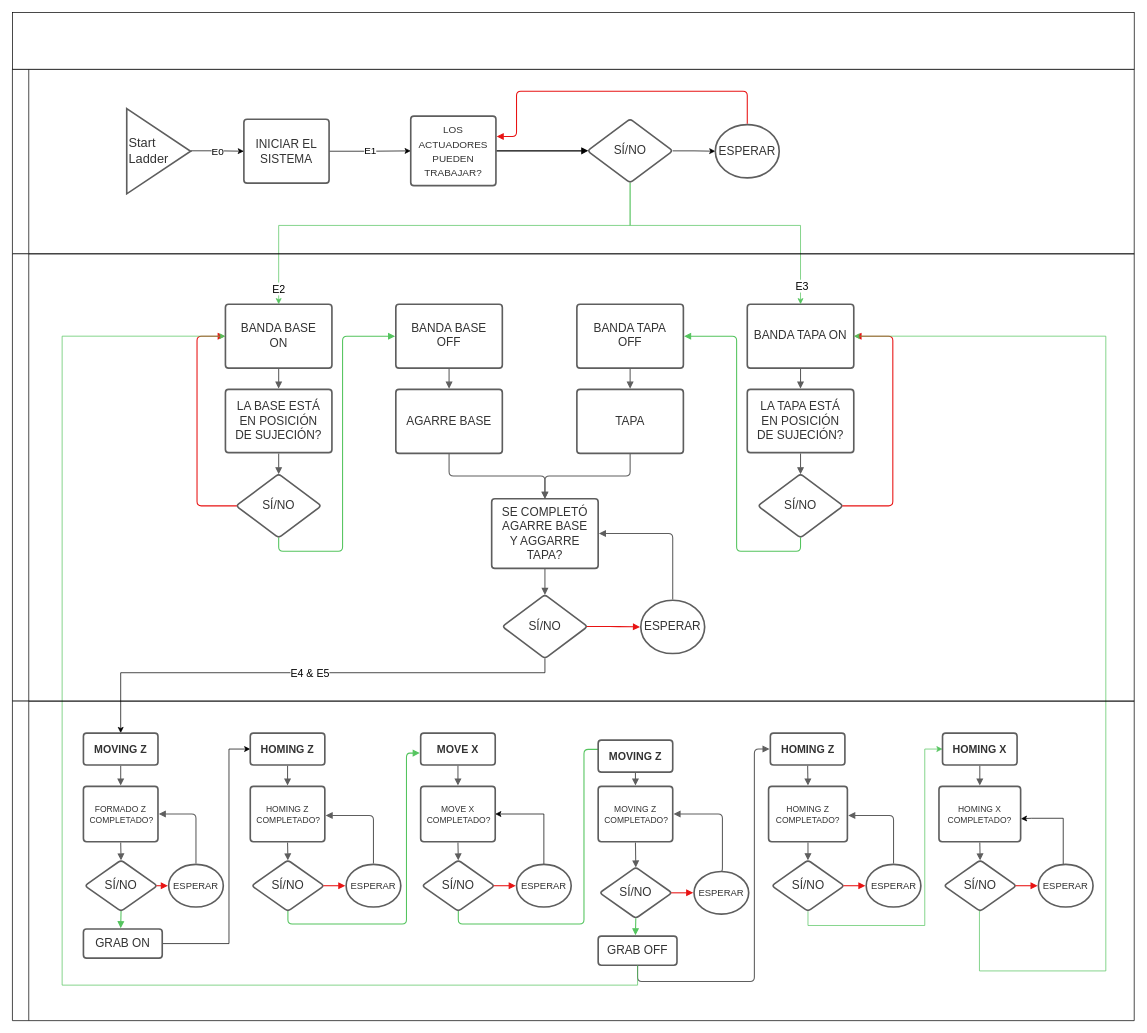
Some shapes in this 1147 by 1033 pixel diagram are drawn without their labels. The shapes that lost their labels are listed below. From the top down, each one's centre as x and y in pixels, then its label:
(x=573, y=40): MAIN PROGRAM
(x=573, y=161): A. PROCESS SETUP
(x=573, y=477): B. POSITIONING
(x=573, y=860): C. FORMING
